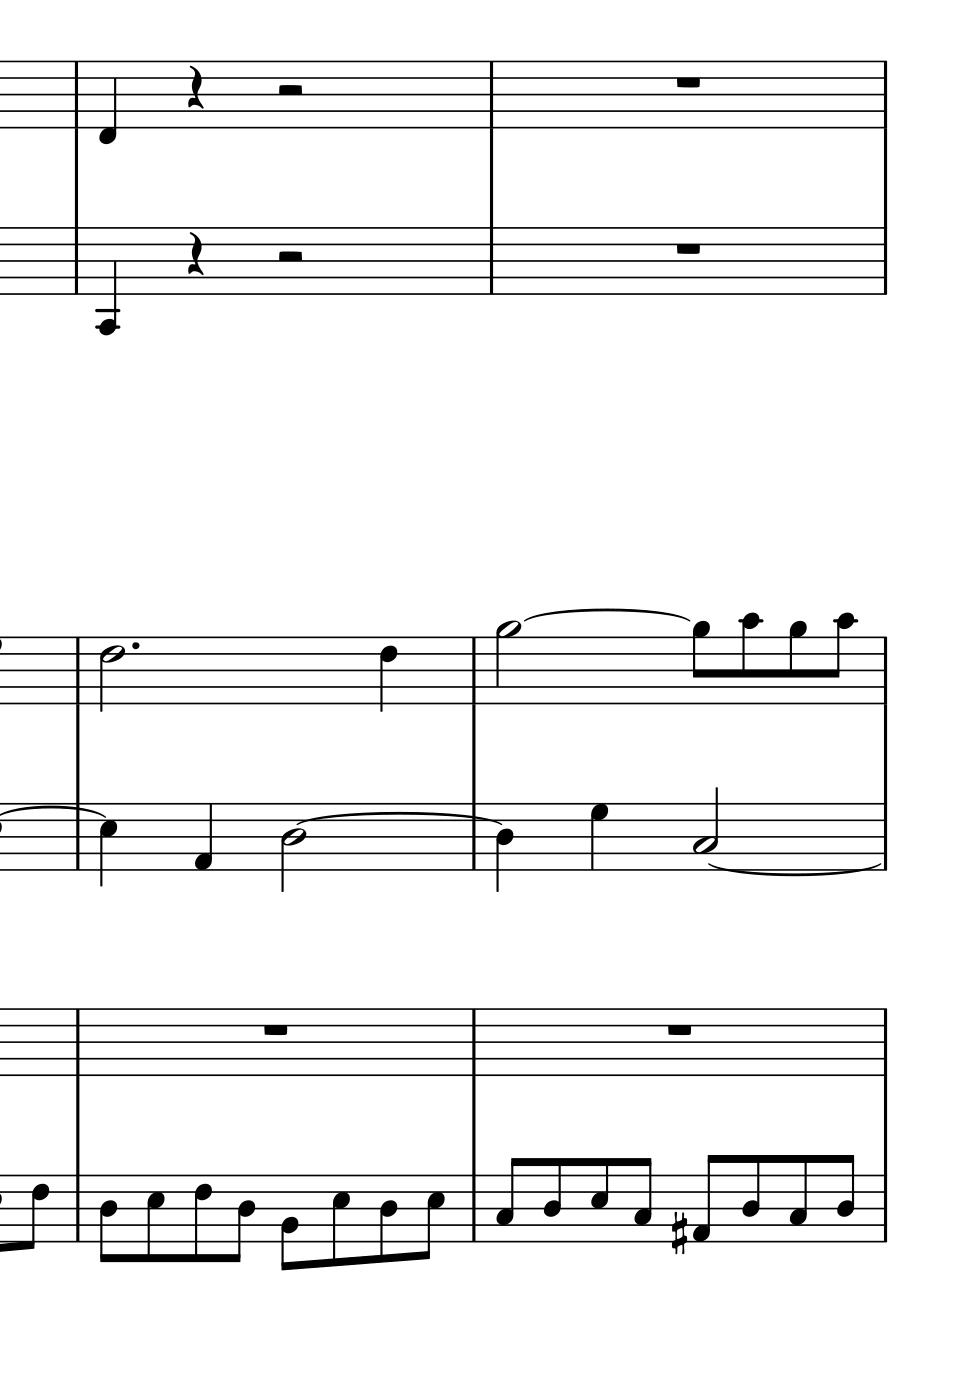2_3: (692, 783, 720, 870)
2_4: (279, 803, 307, 893)
2_6: (97, 635, 126, 712)
2_8: (494, 619, 520, 707)
4_-1: (95, 58, 118, 145)
4_-4: (94, 224, 121, 336)
4_1: (192, 802, 214, 874)
4_4: (494, 800, 517, 894)
4_5: (97, 801, 117, 889)
4_6: (378, 634, 399, 715)
4_7: (589, 801, 610, 871)
8_1: (690, 1153, 729, 1244)
8_10: (826, 611, 856, 707), (737, 611, 762, 706)
8_2: (279, 1173, 300, 1273)
8_3: (494, 1155, 522, 1244), (787, 1153, 810, 1245), (633, 1156, 654, 1244)
8_4: (229, 1173, 256, 1264), (97, 1172, 119, 1265), (377, 1173, 398, 1265), (740, 1153, 762, 1244), (836, 1153, 857, 1244), (541, 1156, 562, 1244)
8_5: (419, 1172, 447, 1261), (329, 1173, 350, 1268), (144, 1172, 165, 1265), (588, 1156, 609, 1243)
8_6: (22, 1173, 50, 1252), (191, 1173, 213, 1265)
8_9: (786, 620, 808, 707), (690, 620, 713, 706)
Rests1: (672, 238, 704, 258), (672, 72, 704, 91), (663, 1020, 695, 1038), (260, 1020, 291, 1038)
Rests2: (273, 82, 307, 100), (273, 248, 307, 266)
Rests4: (183, 63, 206, 112), (185, 230, 206, 279)
Sharp: (669, 1210, 688, 1256)
Single_barline: (461, 1008, 486, 1077), (872, 1174, 895, 1243), (463, 636, 486, 704), (462, 803, 485, 871), (873, 1008, 895, 1076), (873, 802, 894, 871), (463, 1174, 485, 1242), (68, 1008, 88, 1076), (68, 62, 86, 129), (875, 637, 893, 705), (68, 1175, 86, 1241), (876, 62, 893, 129), (876, 227, 893, 295), (69, 637, 86, 704), (68, 228, 85, 294), (483, 62, 498, 128), (483, 227, 498, 294), (70, 806, 86, 869)
Slur: (513, 606, 692, 626), (293, 812, 501, 826), (703, 862, 877, 878)
dot: (128, 638, 143, 654)
